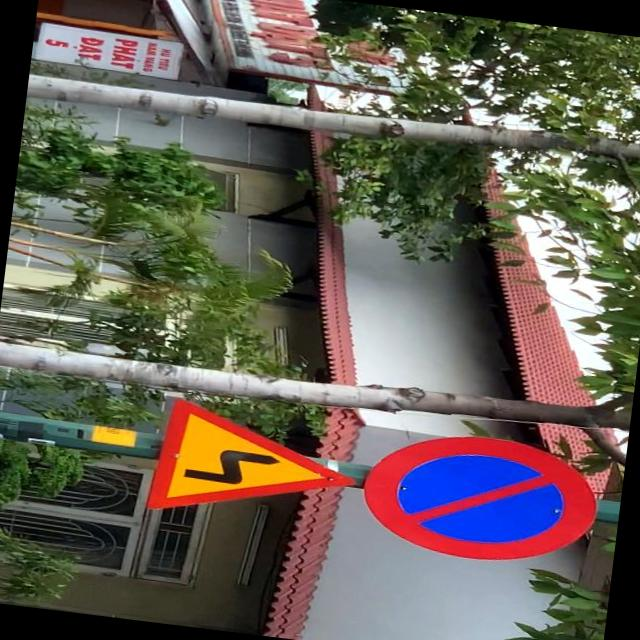P-131a: (358, 425, 603, 571)
W-202a: (142, 394, 364, 536)
